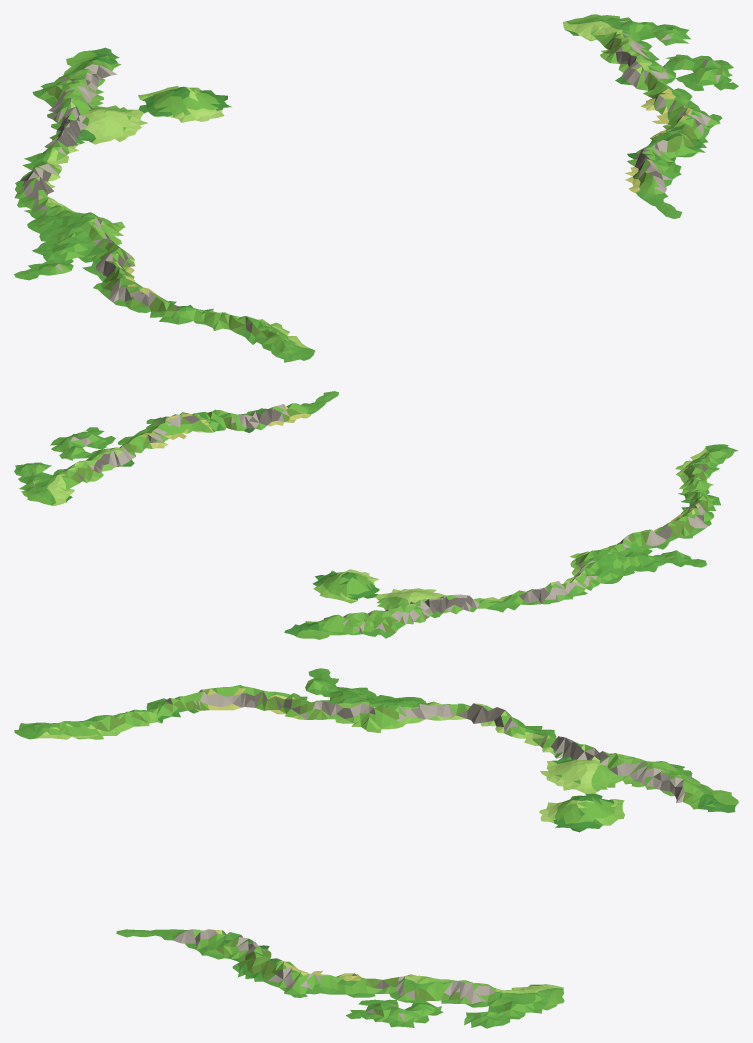
The model's file is Isl-bot4-Relief.fbx.
The picture shows the model from 3 angles, top to bottom: view 1: azimuth 30°, elevation 25°; view 2: azimuth 150°, elevation 25°; view 3: azimuth 270°, elevation 25°; orthographic projection. The views are drawn at different scales.
Parts seen in each view (by area): view 1: Isl-bot4-Relief-c12, Isl-bot4-Relief-c11, Isl-bot4-Relief-c21, Isl-bot4-Relief-c22; view 2: Isl-bot4-Relief-c12, Isl-bot4-Relief-c11, Isl-bot4-Relief-c21, Isl-bot4-Relief-c22; view 3: Isl-bot4-Relief-c12, Isl-bot4-Relief-c11, Isl-bot4-Relief-c21, Isl-bot4-Relief-c22.
Boxes of the visible parts, bbox=[...] form: Isl-bot4-Relief-c12: bbox=[14, 47, 231, 209]; Isl-bot4-Relief-c11: bbox=[24, 196, 314, 359]; Isl-bot4-Relief-c21: bbox=[615, 49, 738, 218]; Isl-bot4-Relief-c22: bbox=[563, 14, 691, 63]; Isl-bot4-Relief-c12: bbox=[284, 569, 587, 639]; Isl-bot4-Relief-c11: bbox=[564, 446, 733, 590]; Isl-bot4-Relief-c21: bbox=[50, 391, 338, 471]; Isl-bot4-Relief-c22: bbox=[14, 460, 103, 506]; Isl-bot4-Relief-c12: bbox=[449, 703, 738, 832]; Isl-bot4-Relief-c11: bbox=[26, 673, 451, 739]; Isl-bot4-Relief-c21: bbox=[116, 929, 452, 1027]; Isl-bot4-Relief-c22: bbox=[448, 979, 564, 1028].
Bounding box in the file's own units: 113 × 2.48 × 96.14.
